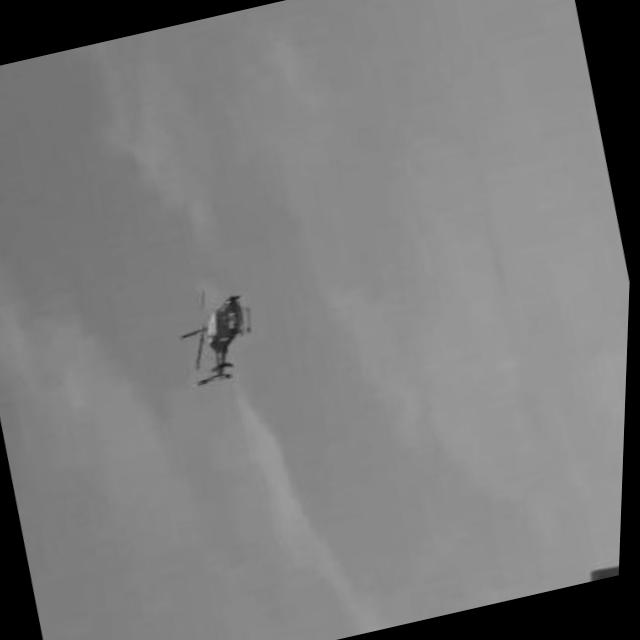helikopter: (168, 282, 274, 394)
